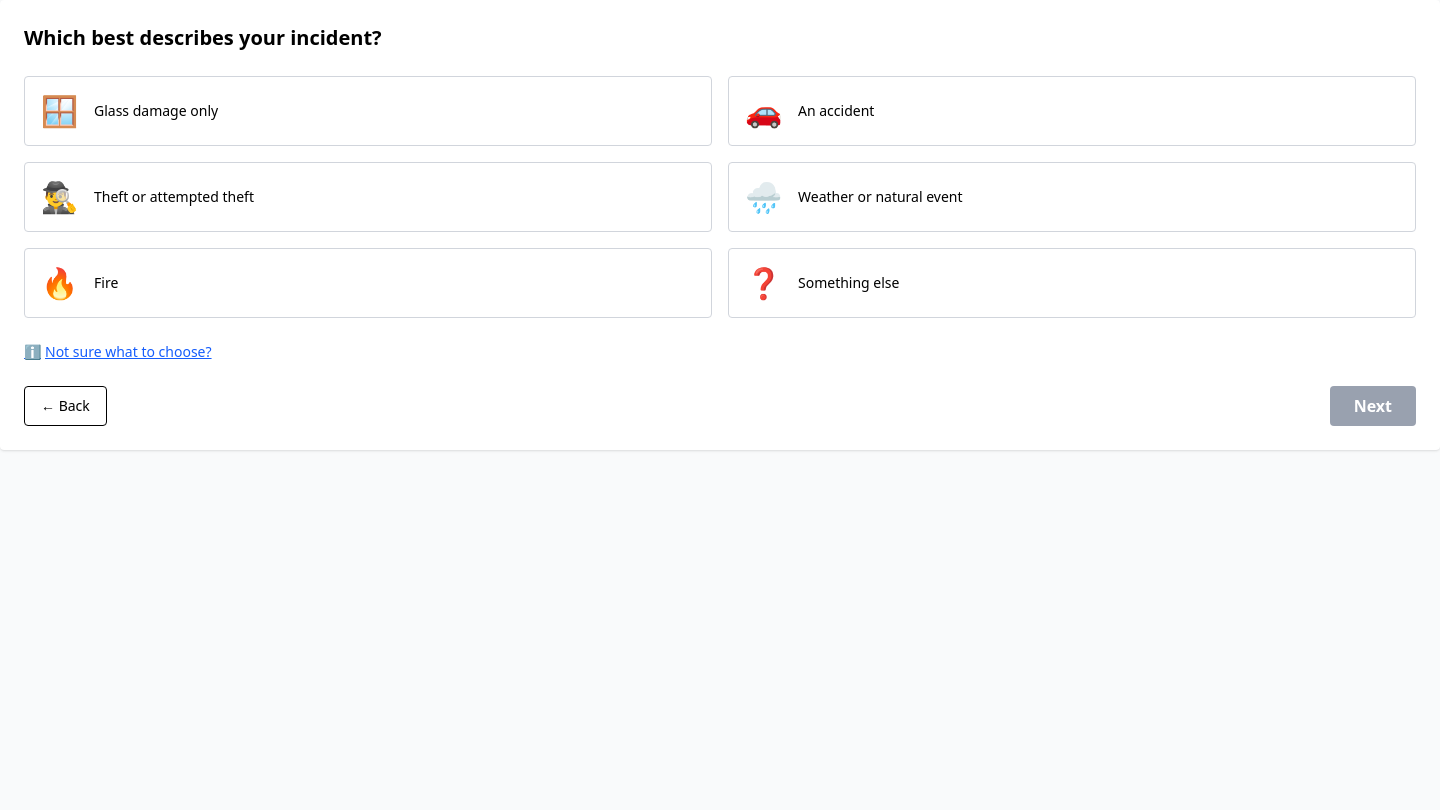
Step4IncidentType › shows modal when clicking "Not sure what to choose?"
Click the text "Not sure what to choose?": (128, 352) [45,342,212,362]
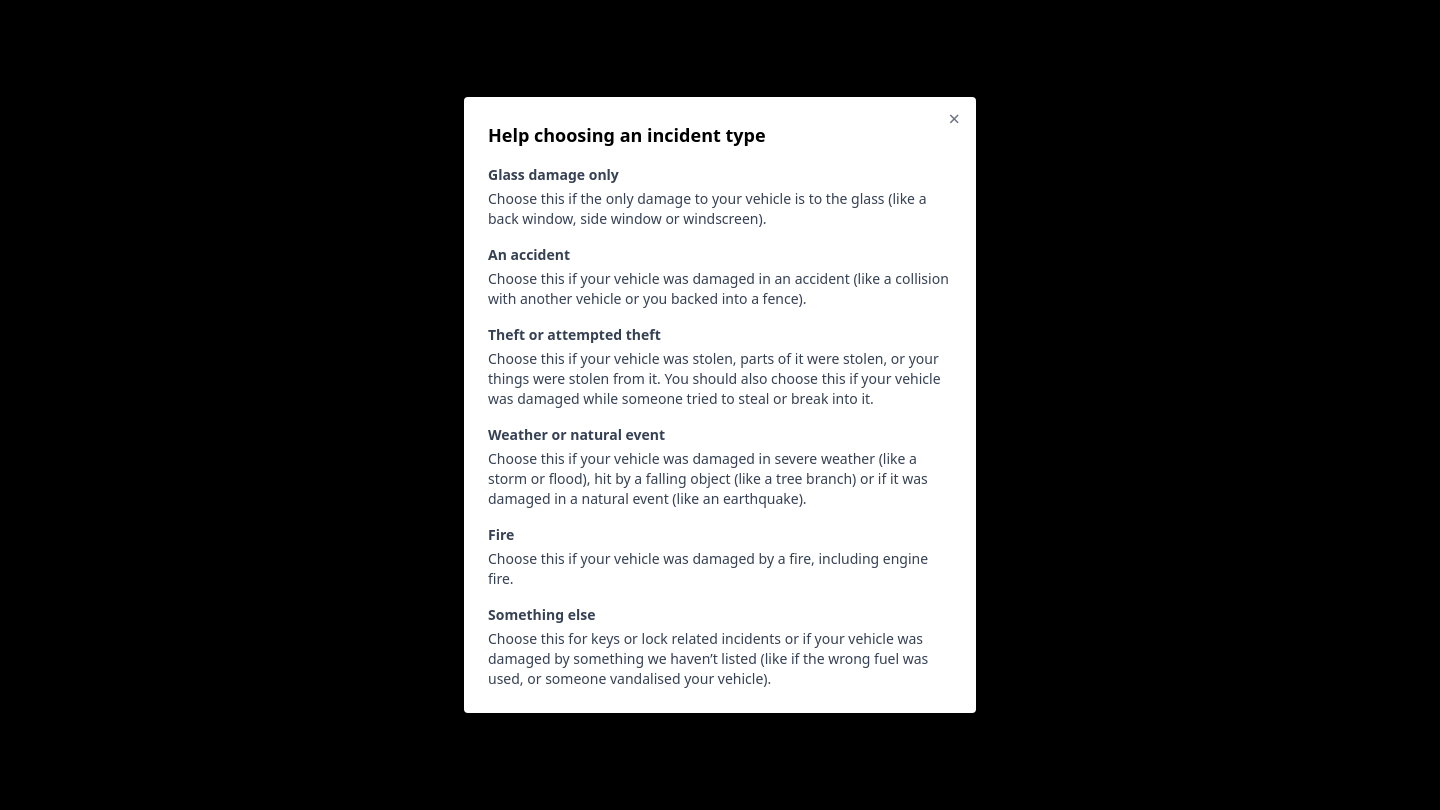
Expected: the heading "Help choosing an incident type" is shown, [488,123,766,147]
